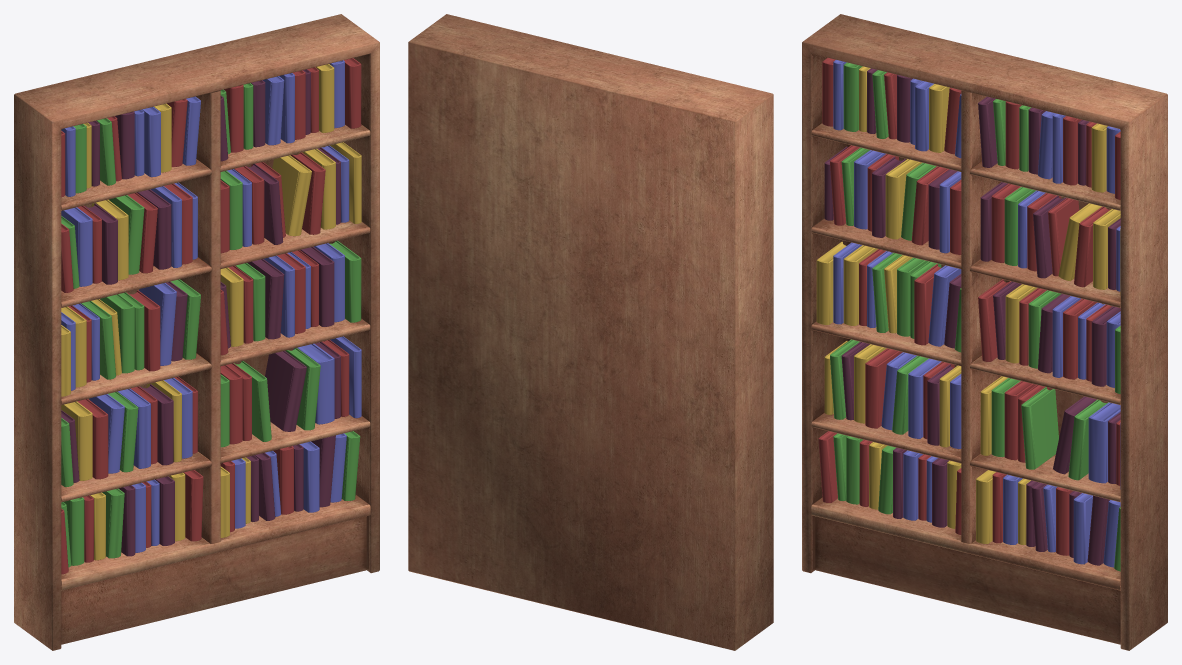
The model's file is m2_analogy.glb.
3 views of the same model, side by side, from view 1: azimuth 30°, elevation 25°; view 2: azimuth 150°, elevation 25°; view 3: azimuth 330°, elevation 25° (orthographic).
Visible parts, largest first — view 1: Object_2, Object_5, Object_7, Object_9, Object_3, Object_8, Object_4, Object_6, Object_10; view 2: Object_2; view 3: Object_2, Object_3, Object_7, Object_9, Object_5, Object_8, Object_4, Object_6, Object_10.
Part boxes in pixels (x1,y1,x2,y2): Object_2: (14, 14, 379, 650); Object_5: (61, 73, 361, 552); Object_7: (61, 83, 361, 567); Object_9: (61, 69, 340, 556); Object_3: (61, 131, 349, 574); Object_8: (61, 64, 361, 560); Object_4: (61, 58, 361, 292); Object_6: (61, 60, 344, 267); Object_10: (84, 203, 117, 284); Object_2: (408, 14, 773, 650); Object_2: (802, 14, 1167, 650); Object_3: (818, 58, 1120, 555); Object_7: (830, 62, 1120, 571); Object_9: (824, 68, 1120, 565); Object_5: (833, 78, 1120, 567); Object_8: (816, 66, 1120, 544); Object_4: (830, 72, 1120, 254); Object_6: (833, 60, 1120, 253); Object_10: (872, 156, 905, 237).
Size of the model in its own units: 1.84 by 2.84 by 0.3749.
Materials: 6 (1 with a texture image).
